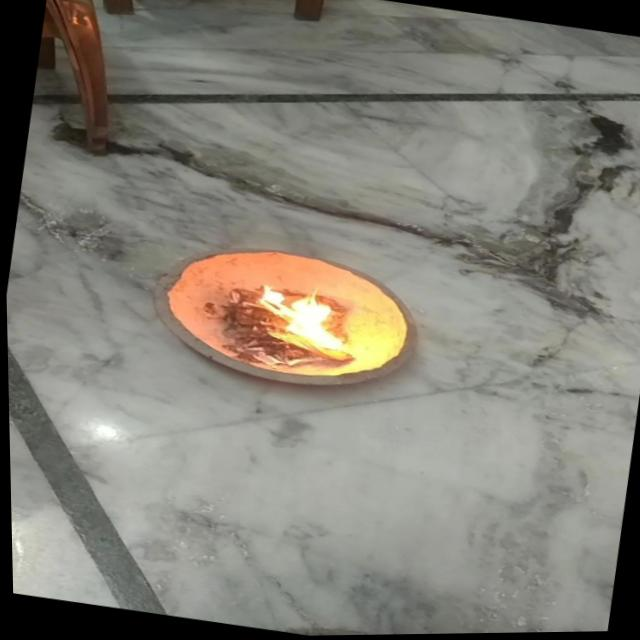fire: (240, 278, 352, 366)
